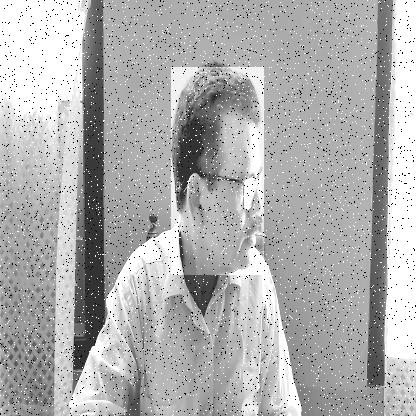Distracted: (171, 67, 264, 275)
